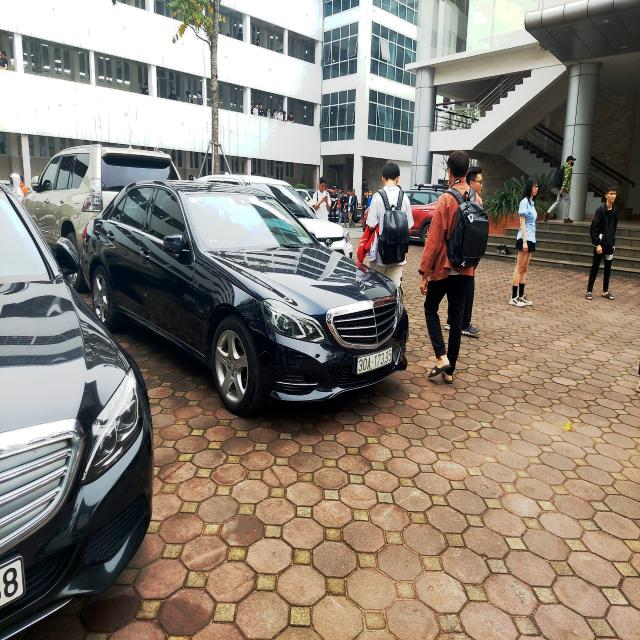license_plate: (357, 347, 394, 376)
